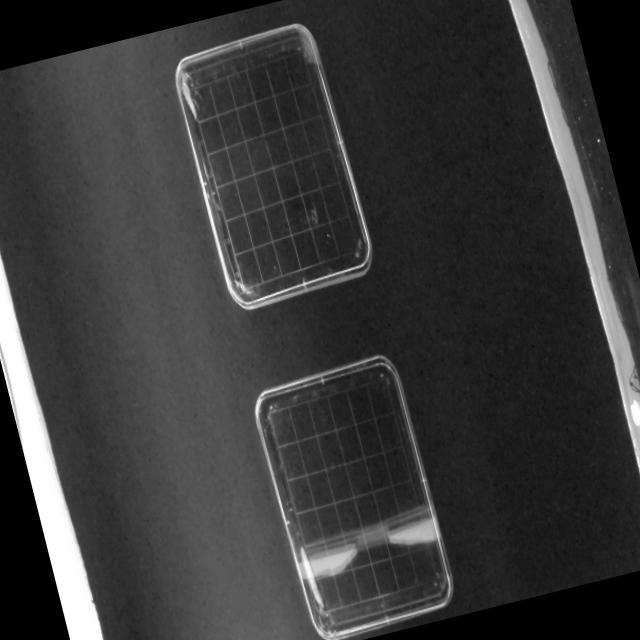larva: (298, 542, 326, 612), (177, 64, 203, 123)
